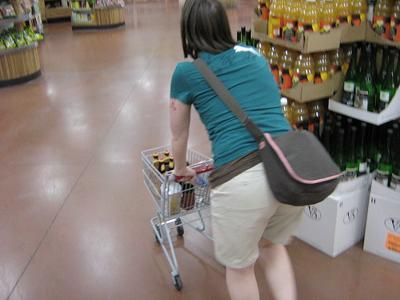person: (169, 1, 308, 300)
